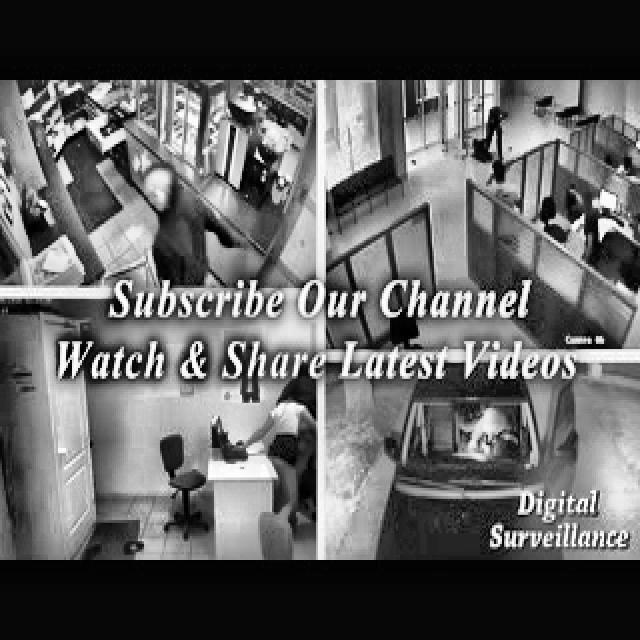robbery: (228, 378, 316, 547)
